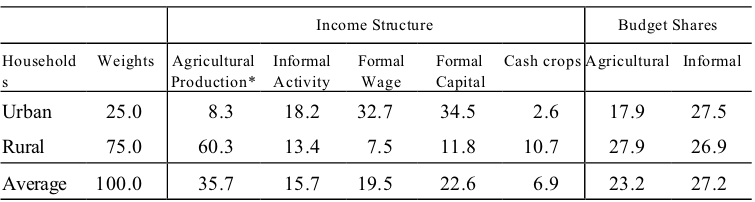column: (494, 3, 584, 200), (585, 3, 675, 200), (80, 2, 168, 200), (414, 3, 494, 202), (1, 1, 80, 200), (676, 3, 755, 202), (166, 42, 264, 202), (336, 3, 414, 202), (265, 3, 338, 201)
row: (1, 44, 755, 92), (1, 1, 755, 45), (1, 164, 755, 202), (1, 127, 755, 164), (2, 92, 755, 128)
